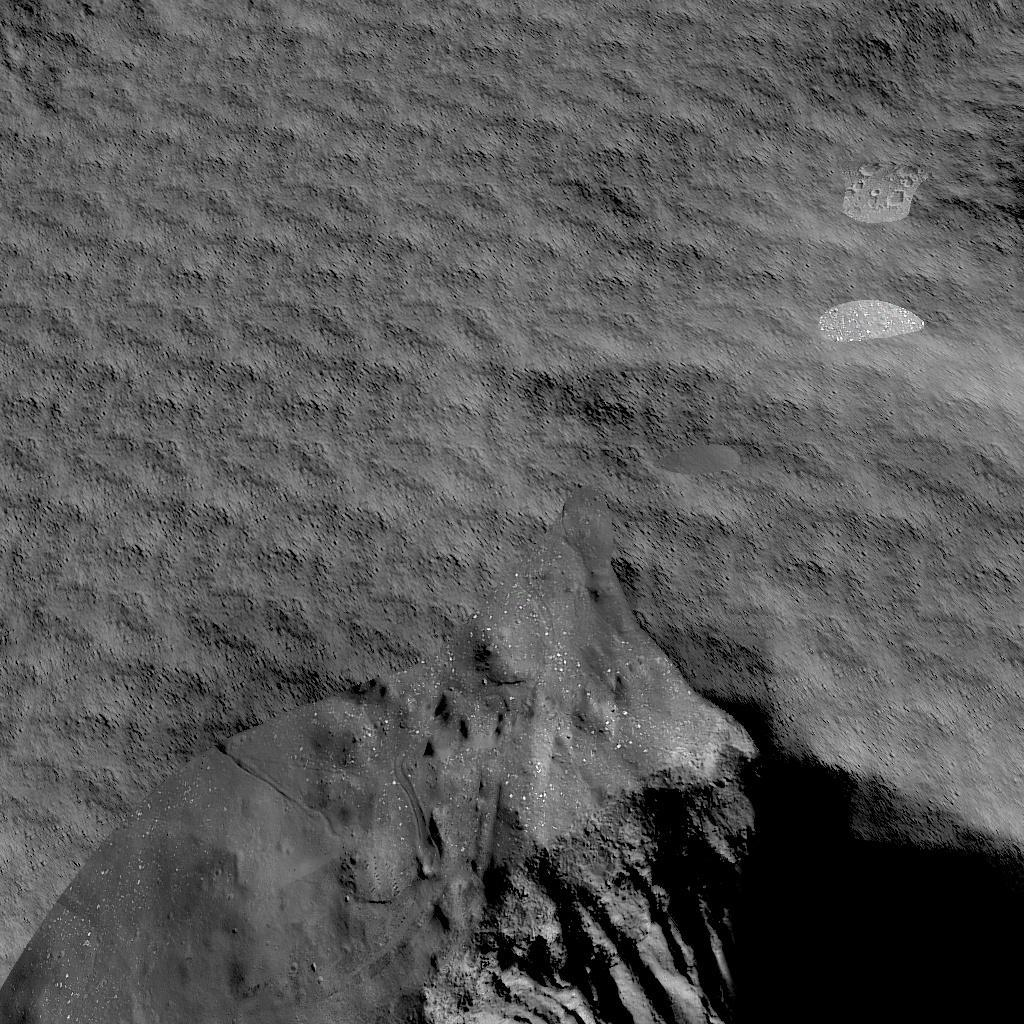Crater: (0, 652, 1024, 1024)
Plan surface: (0, 0, 963, 640)
